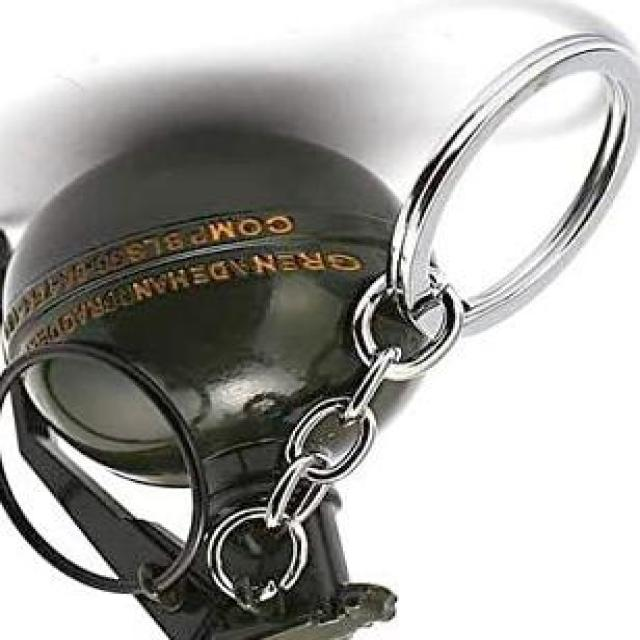grenade: (3, 130, 442, 640)
